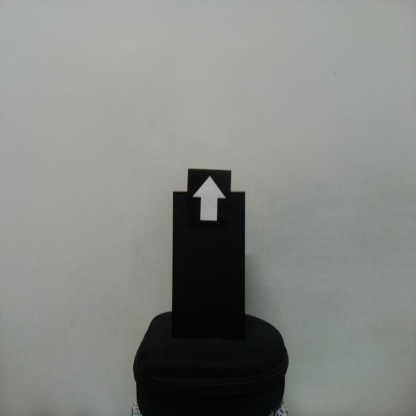id_1: (187, 170, 232, 233)
